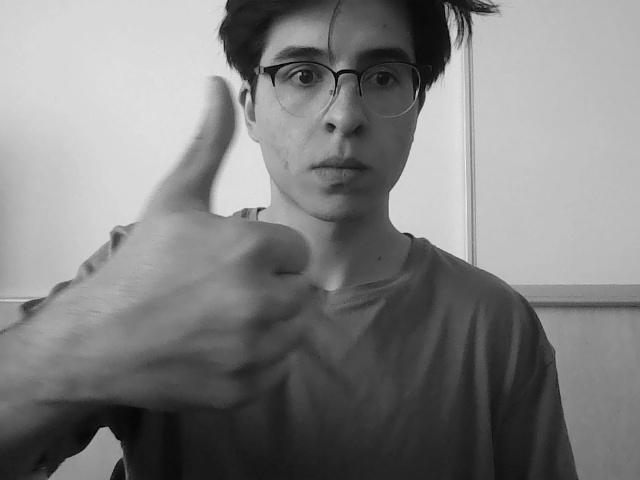good: (122, 90, 308, 434)
